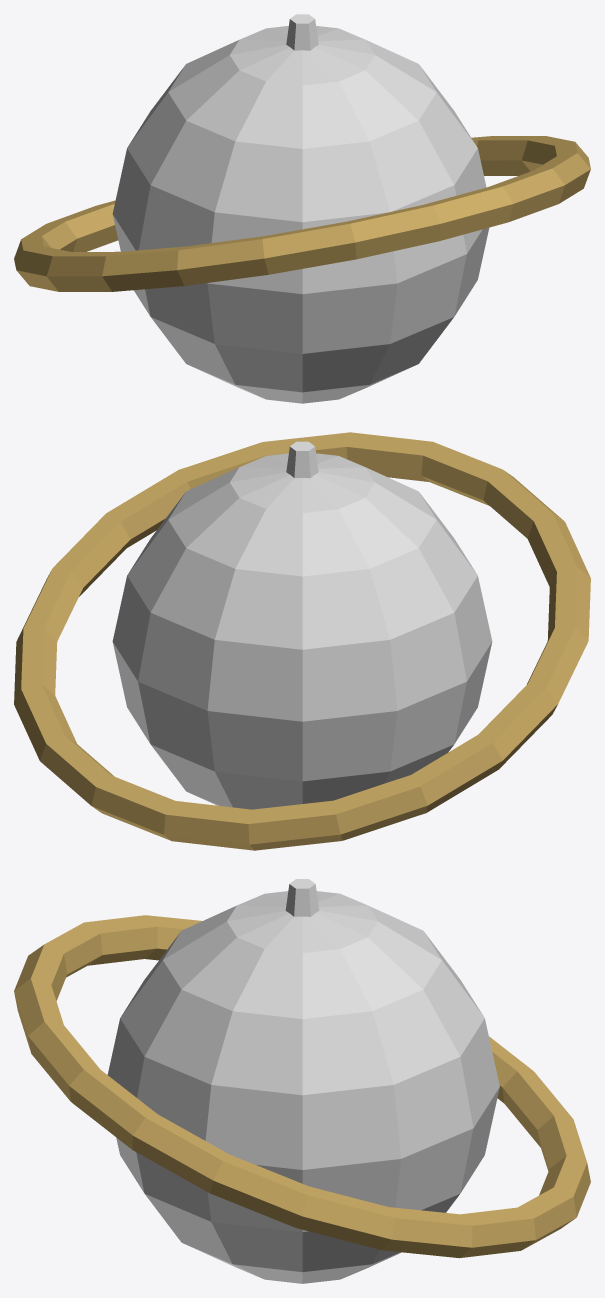
File: chase_planet.glb
3 renders of one model, top to bottom at view 1: azimuth 30°, elevation 25°; view 2: azimuth 150°, elevation 25°; view 3: azimuth 270°, elevation 25°, orthographic. The views are drawn at different scales.
Visible parts, largest first — view 1: ball_planet_ball, ring_planet_ring, valve_valve; view 2: ball_planet_ball, ring_planet_ring, valve_valve; view 3: ball_planet_ball, ring_planet_ring, valve_valve.
Boxes of the visible parts, x1,y1,x2,y2 form: ball_planet_ball: [112, 26, 489, 403]; ring_planet_ring: [14, 136, 590, 291]; valve_valve: [286, 14, 318, 50]; ball_planet_ball: [112, 453, 492, 809]; ring_planet_ring: [14, 432, 590, 850]; valve_valve: [286, 441, 318, 478]; ball_planet_ball: [107, 891, 499, 1283]; ring_planet_ring: [14, 915, 590, 1258]; valve_valve: [285, 879, 319, 916].
Size of the model in its own units: 1.4 by 0.96 by 1.32.
